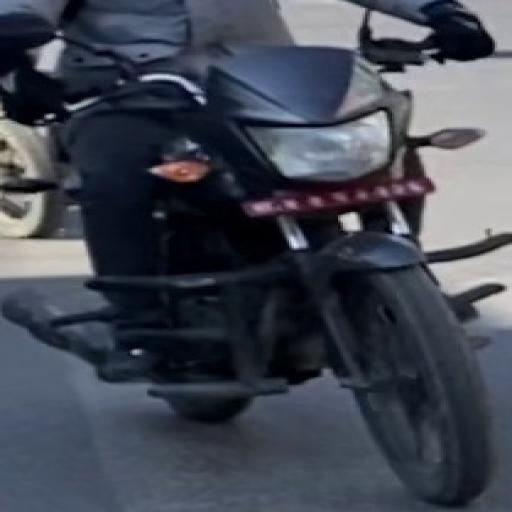license_plate: (244, 172, 441, 222)
